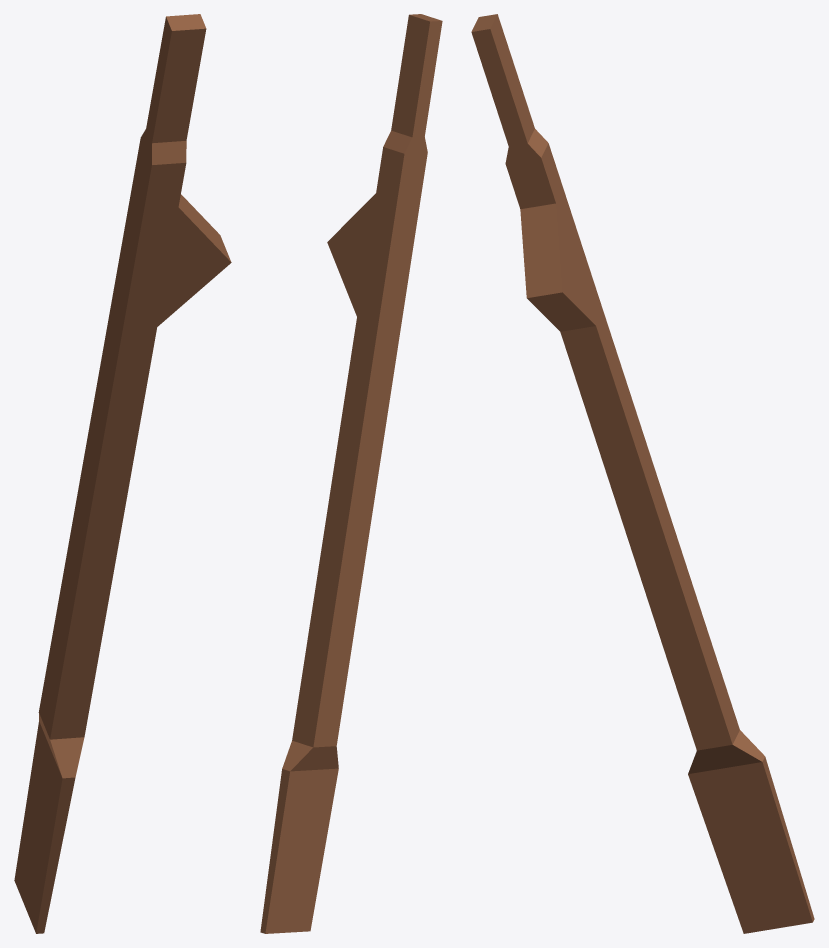
Rendered from M_019.Oar.fbx.
3 views of the same model, side by side, from view 1: azimuth 30°, elevation 25°; view 2: azimuth 150°, elevation 25°; view 3: azimuth 270°, elevation 25° (orthographic). The views are drawn at different scales.
Parts seen in each view (by area): view 1: Cube.020; view 2: Cube.020; view 3: Cube.020.
Boxes of the visible parts, x1,y1,x2,y2 form: Cube.020: [14, 14, 231, 933]; Cube.020: [260, 14, 442, 933]; Cube.020: [471, 14, 814, 933].
Size of the model in its own units: 7.1 by 72.07 by 24.55.
